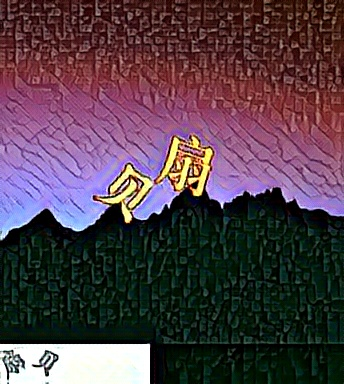B1B4: (91, 161, 153, 225)
C9C8: (153, 133, 215, 197)
